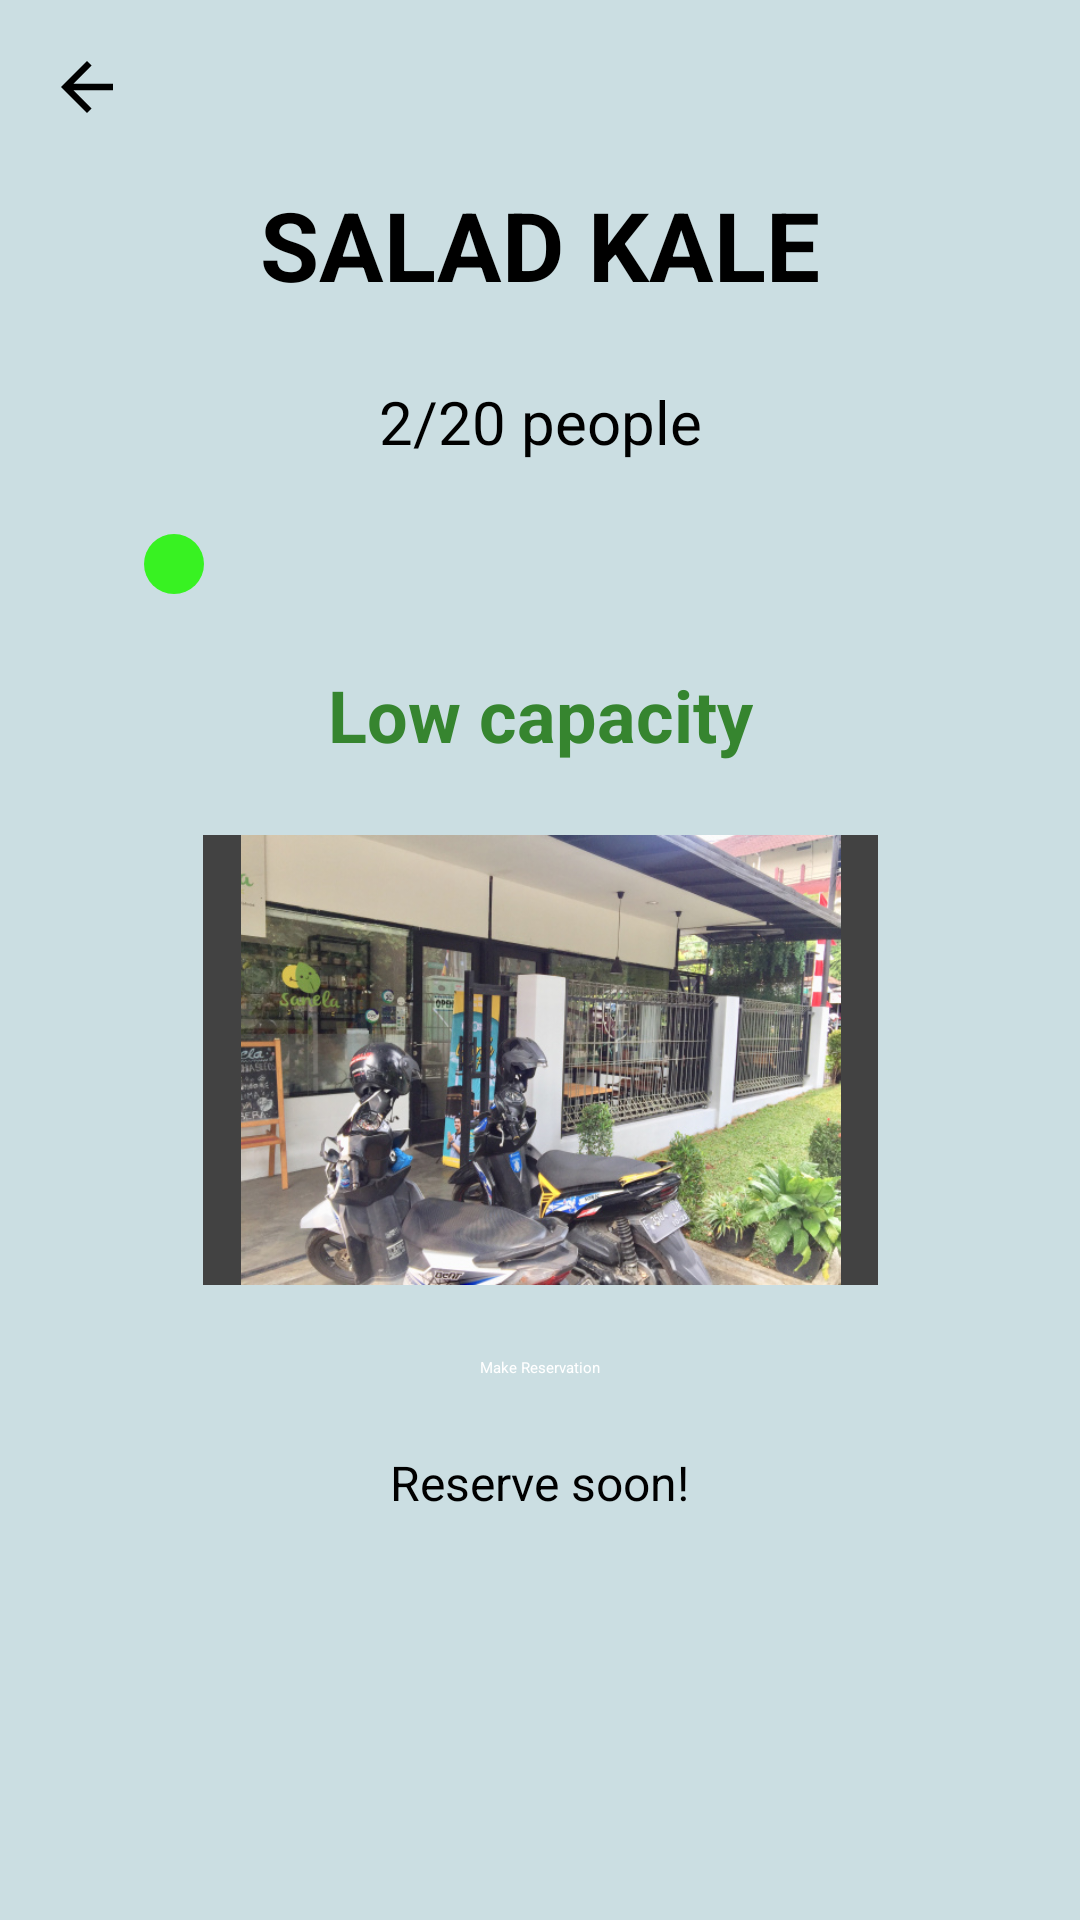

Where icons sit on this 1080px×1920px app screen, as BBox(x1, y1, x2, y2):
arrow back: BBox(61, 61, 113, 113)
